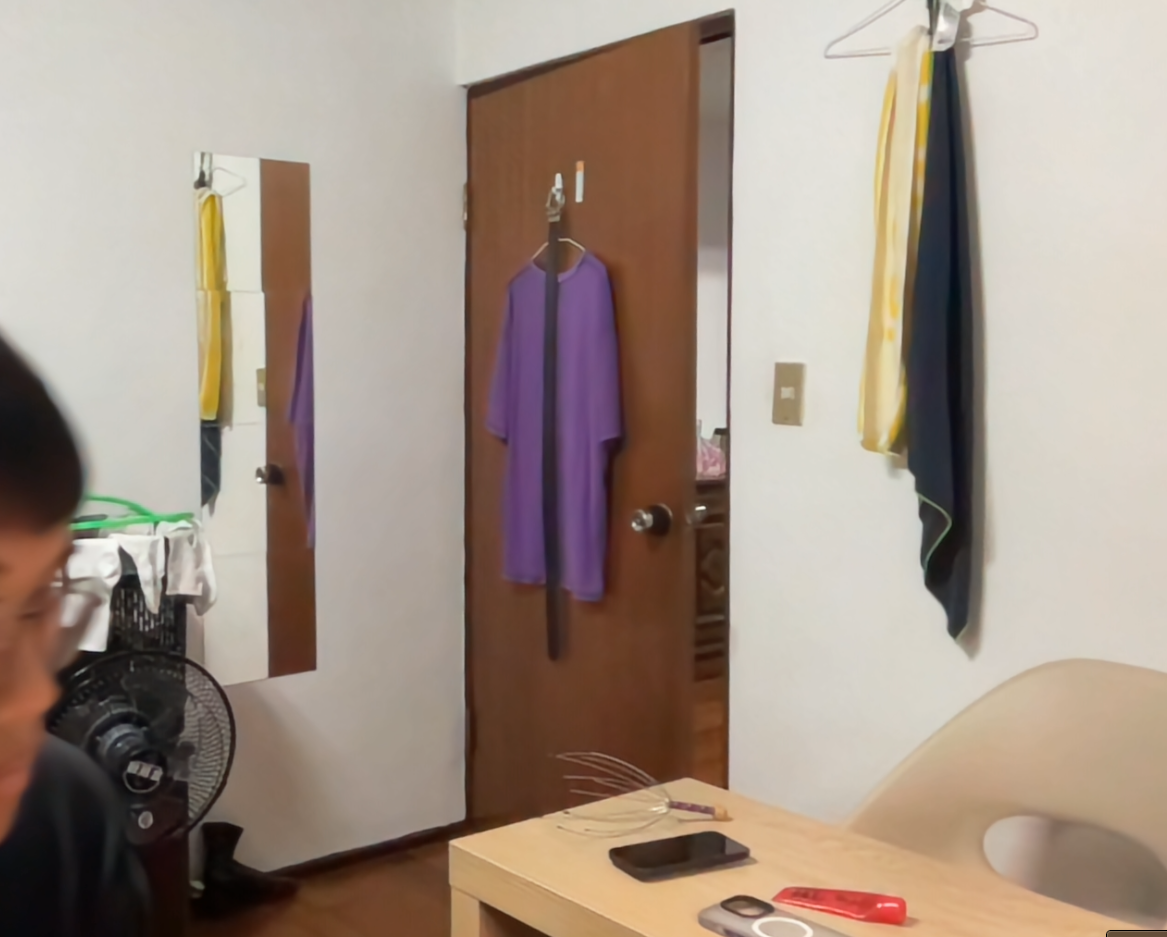Door Close: (443, 35, 761, 827)
